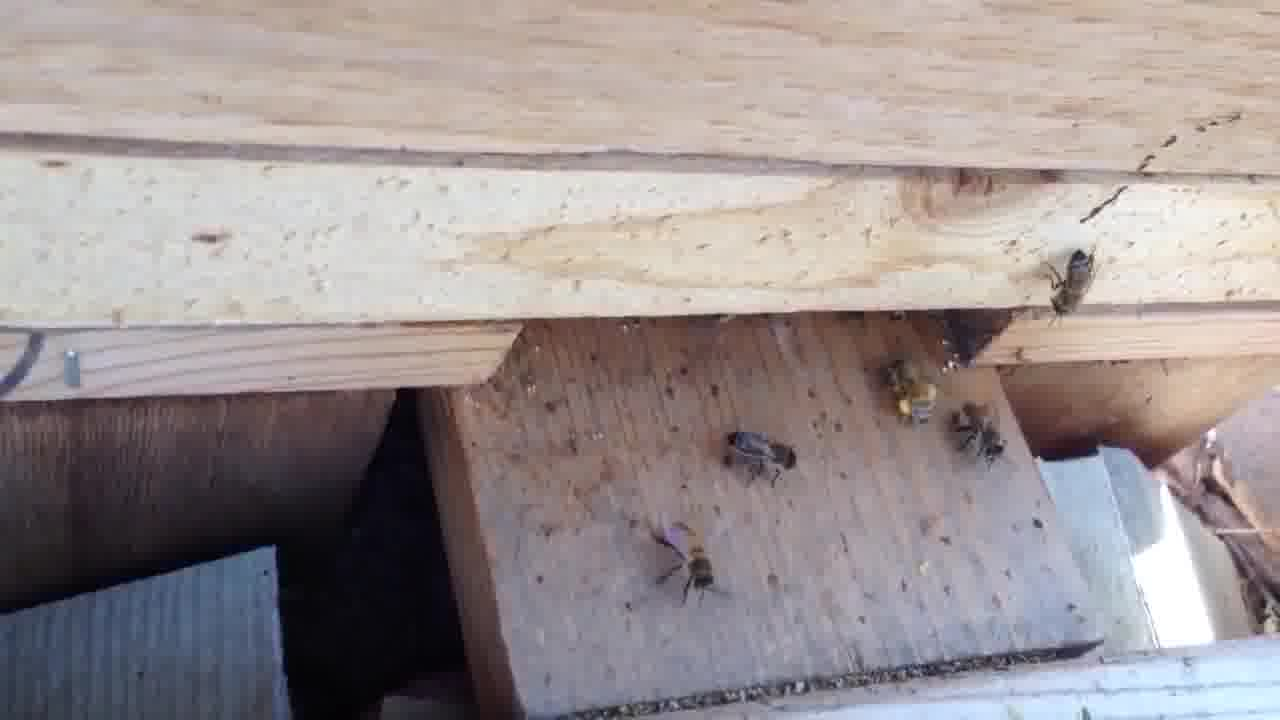pollen: (884, 350, 946, 427)
